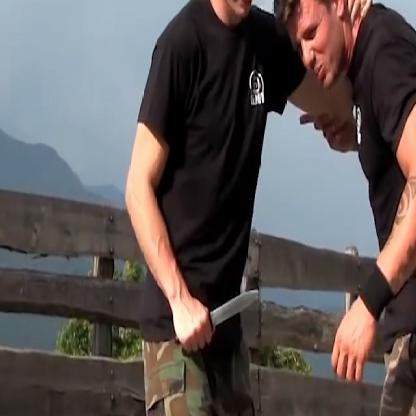knife: (172, 276, 263, 360)
